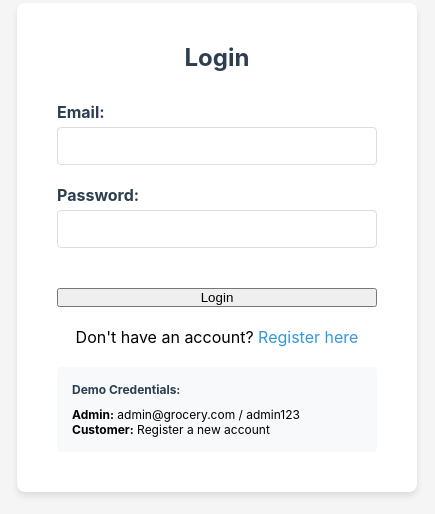
Test: LoginPage › disables submit button during loading
The image size is (435, 514).
Type "test@example.com" into the field labelled "Email:" at x=217, y=146, box [57,126,377,164]
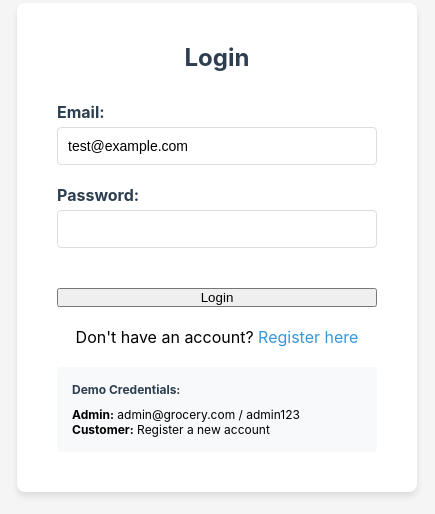
Type "password123" into the password field labelled "Password:" at x=217, y=228, box [57,210,377,248]
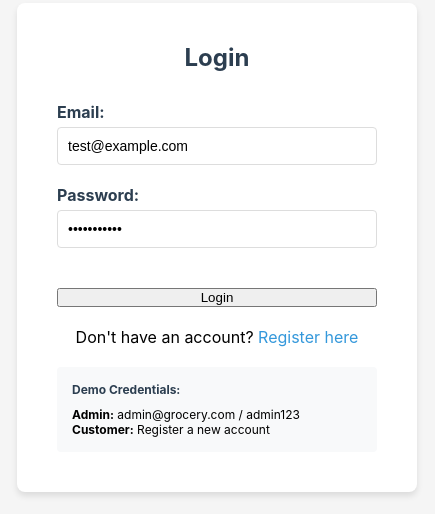
Click the button "Login" at x=217, y=297, box [57,288,377,306]
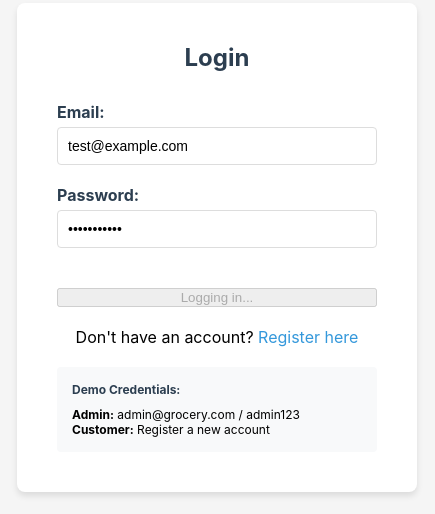
Now the button "Logging in..." is disabled, box [57,288,377,306]
